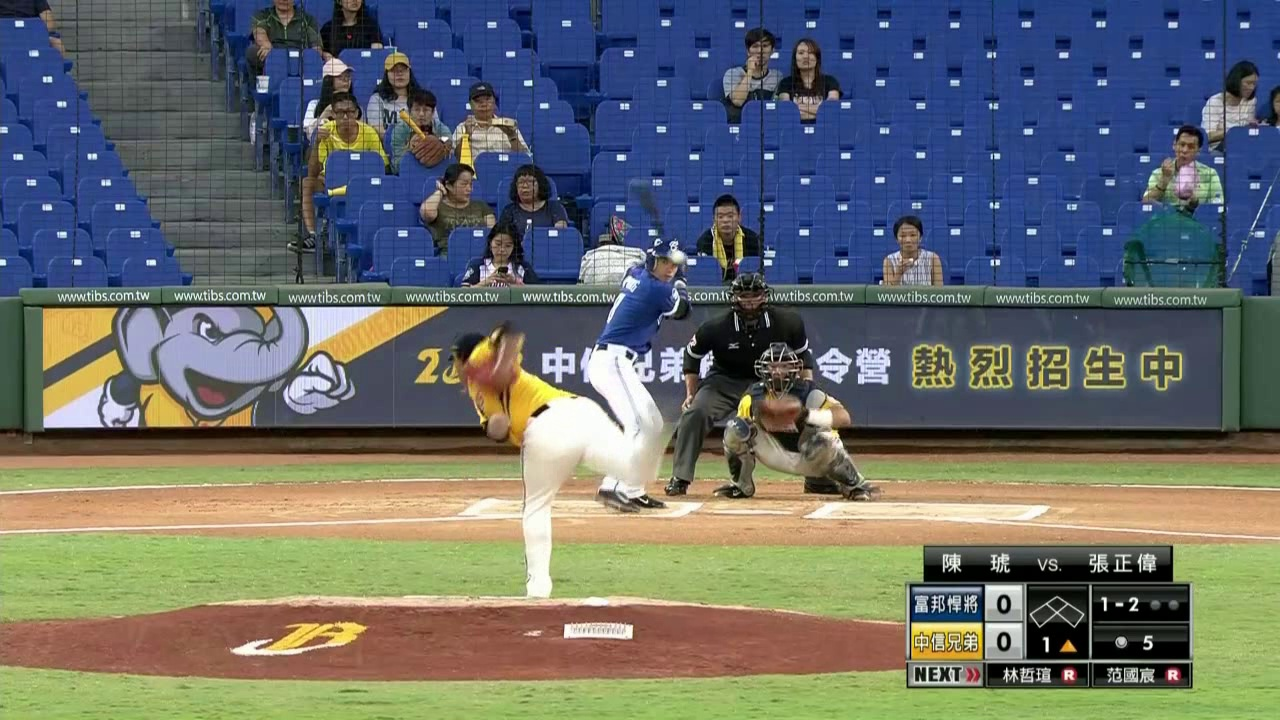ball: (671, 251, 684, 262)
base: (1027, 588, 1087, 628)
bat: (634, 184, 666, 243)
out: (1146, 594, 1185, 616)
score1: (990, 590, 1018, 620)
score2: (989, 627, 1016, 657)
strikeball: (1095, 584, 1143, 617), (1033, 634, 1086, 660)
total: (1105, 628, 1161, 654)
